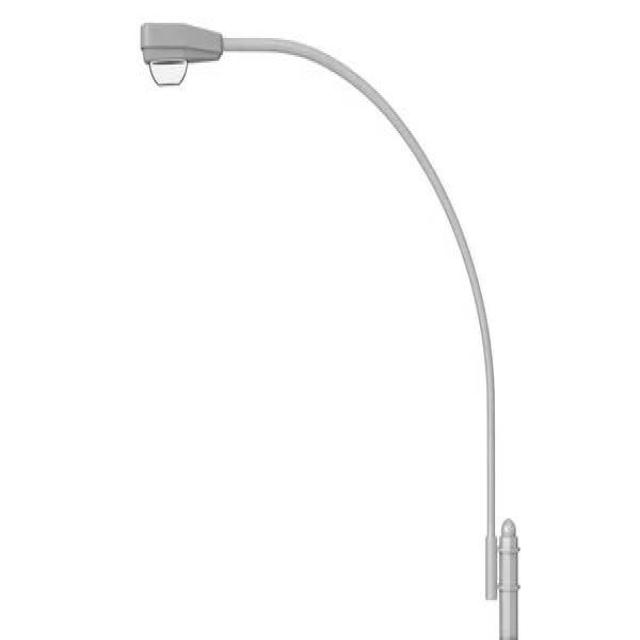Pole: (141, 21, 499, 601)
